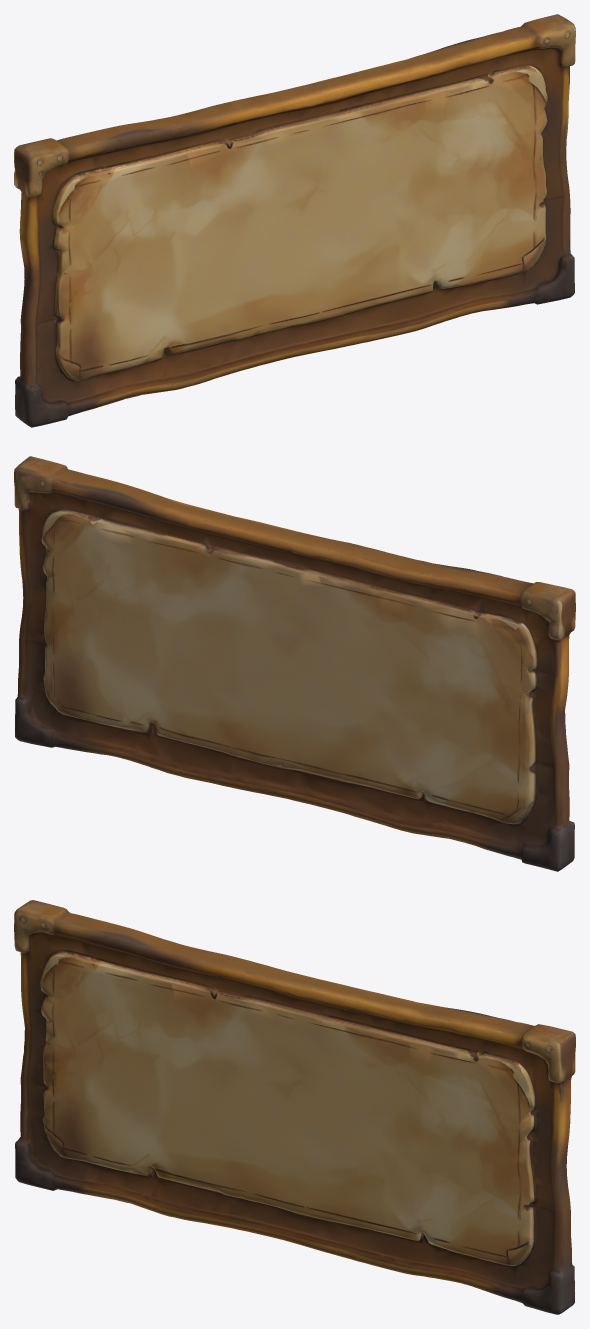
The model's file is Meshy_AI_Blank_Scroll_0416004051_texture.glb.
3 views of the same model, one above another, from view 1: azimuth 30°, elevation 25°; view 2: azimuth 150°, elevation 25°; view 3: azimuth 330°, elevation 25° (orthographic).
Size of the model in its own units: 2 by 0.9577 by 0.1225.
1 material, 1 textured.
